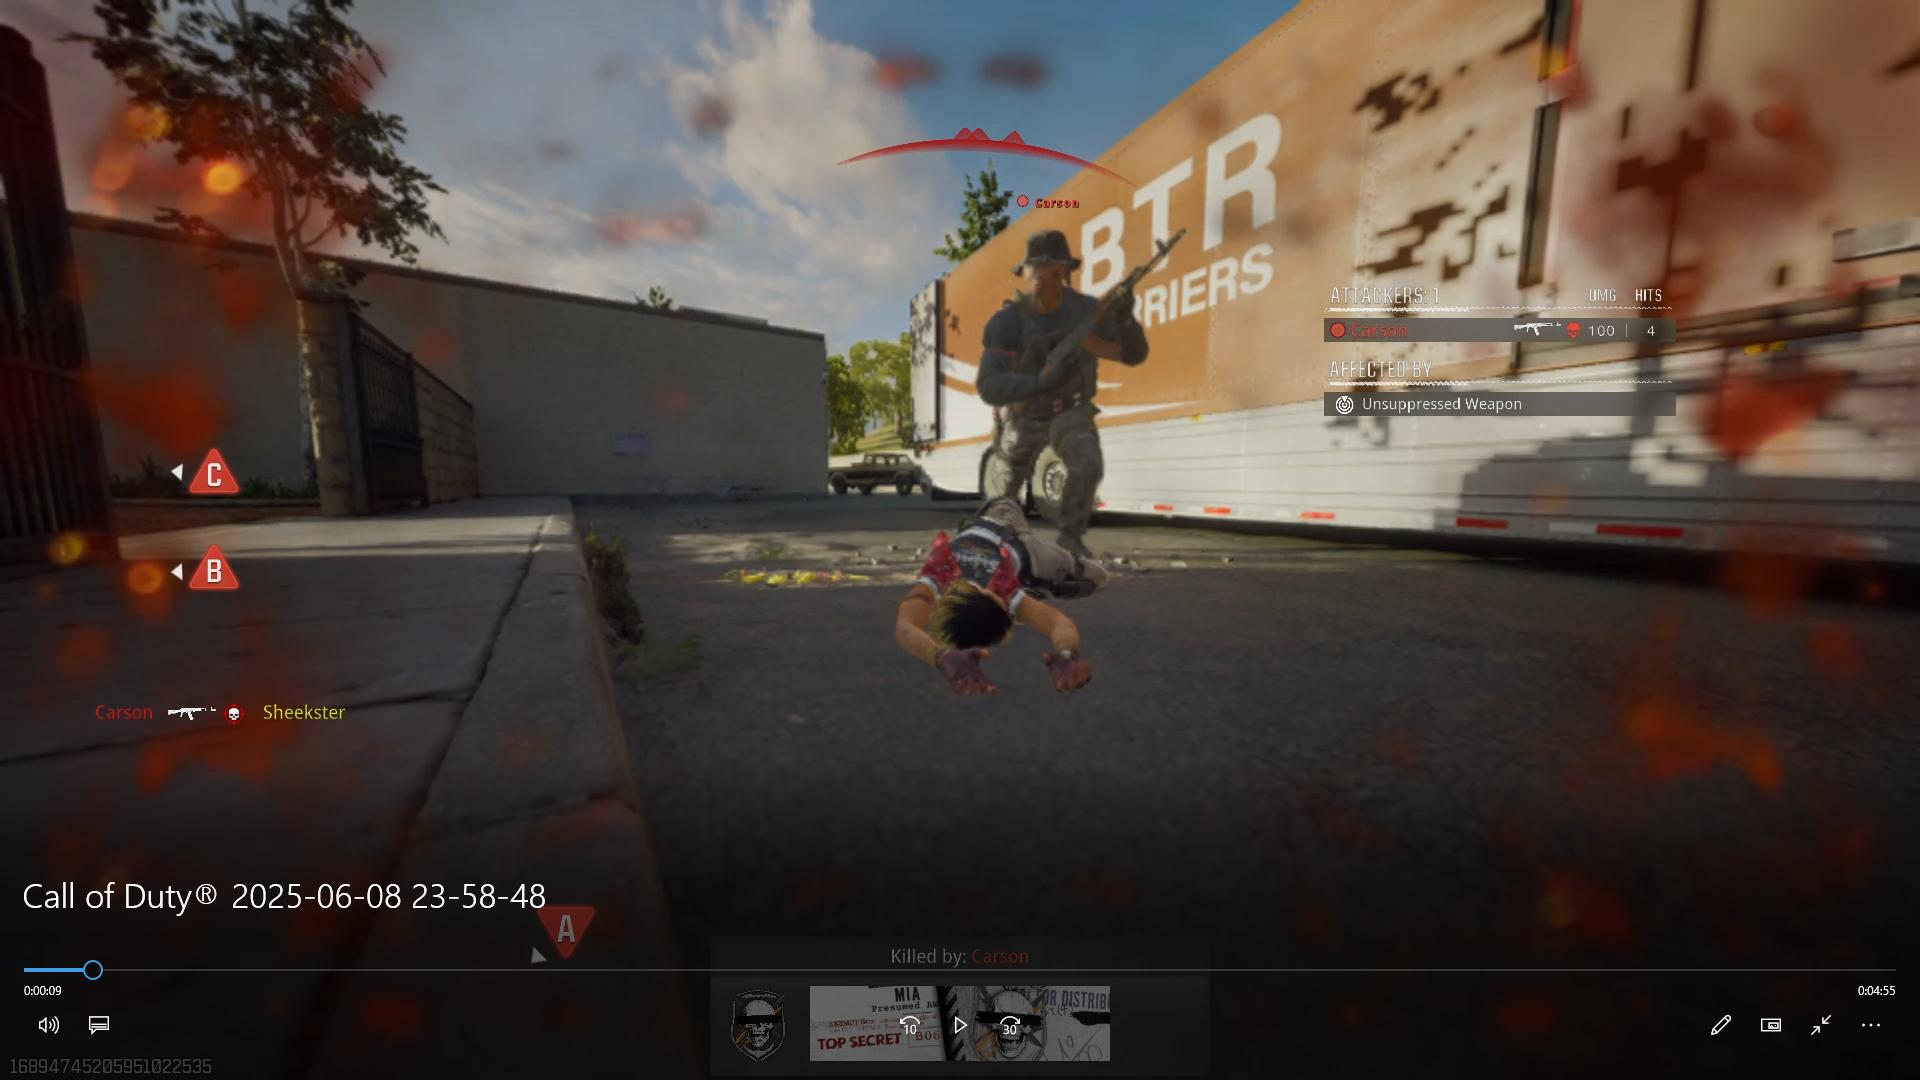Enemy: (976, 214, 1142, 553)
